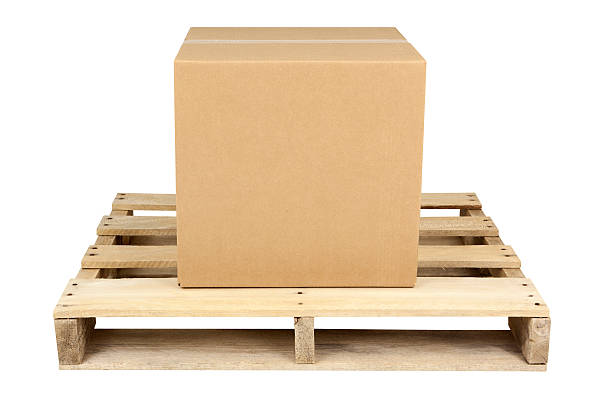box: (173, 14, 420, 295)
pallet: (58, 182, 588, 379)
